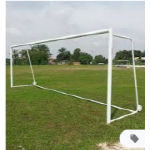goals: (10, 27, 140, 124)
